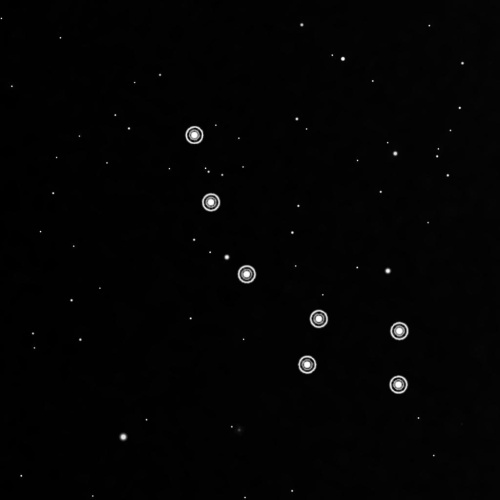ursa_minor: (180, 118, 414, 400)
